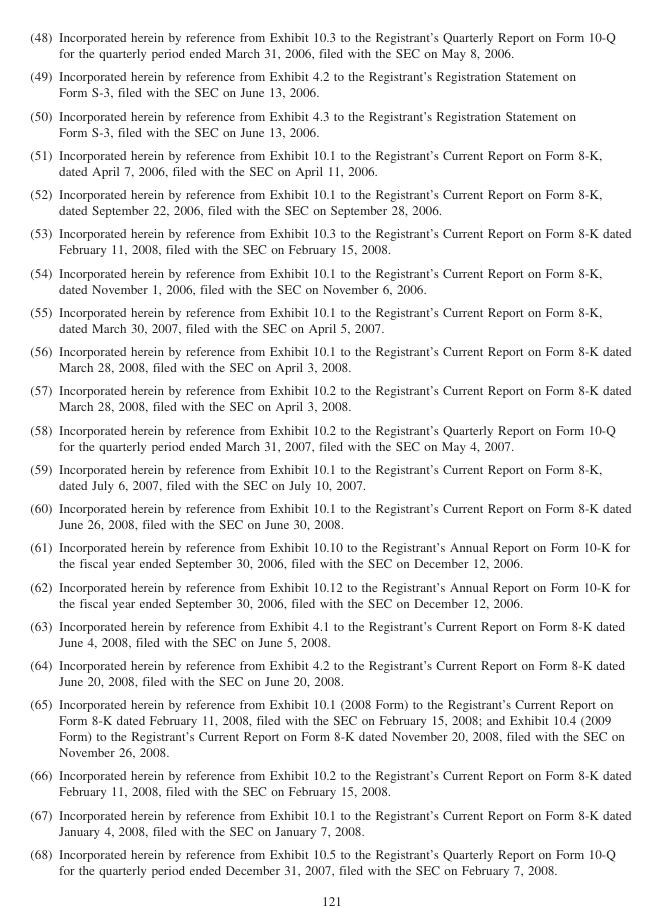table: (29, 29, 630, 876)
table column: (54, 29, 630, 876), (29, 29, 54, 876)
table row: (29, 692, 630, 763), (29, 142, 630, 182), (29, 338, 630, 378), (29, 495, 630, 535), (29, 652, 630, 692), (29, 64, 630, 103), (29, 103, 630, 142), (29, 182, 630, 221), (29, 221, 630, 260), (29, 260, 630, 299), (29, 299, 630, 338), (29, 378, 630, 417), (29, 417, 630, 456), (29, 456, 630, 495), (29, 535, 630, 574), (29, 574, 630, 613), (29, 613, 630, 652), (29, 763, 630, 802), (29, 802, 630, 841), (29, 29, 630, 64), (29, 841, 630, 876)
